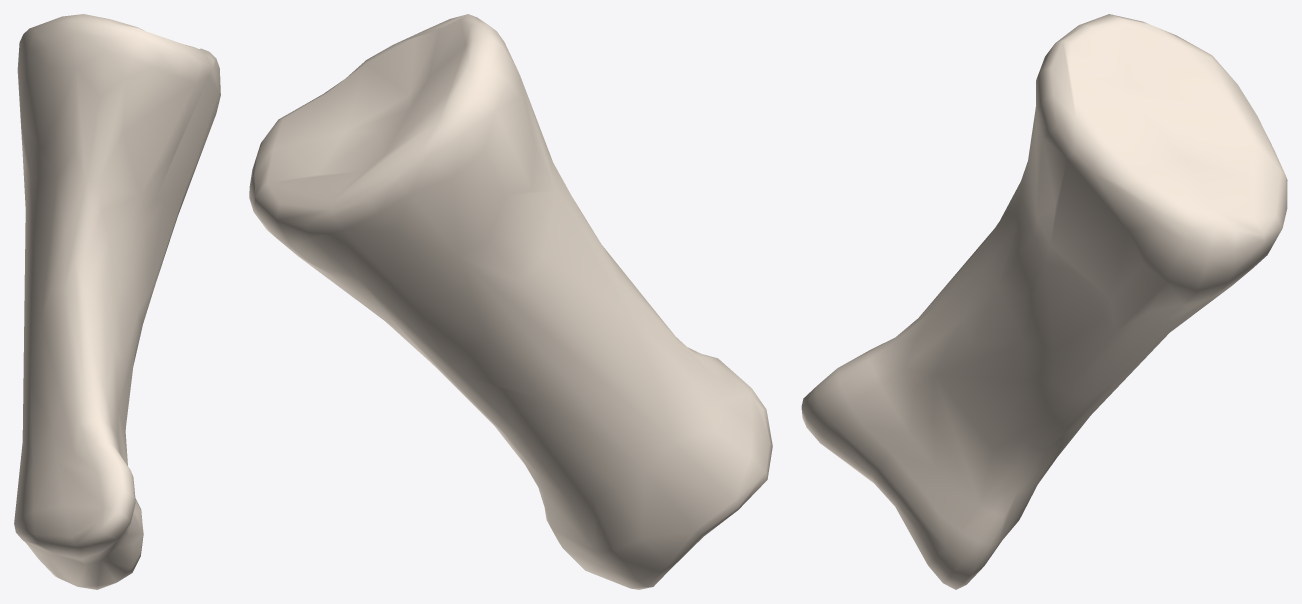
Rendered from right_digit_1_proximal.glb.
3 renders of one model, left to right at view 1: azimuth 30°, elevation 25°; view 2: azimuth 150°, elevation 25°; view 3: azimuth 270°, elevation 25°, orthographic. The views are drawn at different scales.
Visible parts, largest first — view 1: Proximal phalanx of 1st finger.r; view 2: Proximal phalanx of 1st finger.r; view 3: Proximal phalanx of 1st finger.r.
Part boxes in pixels (box(x1,y1,x2,y2)): Proximal phalanx of 1st finger.r: box(14, 14, 220, 589); Proximal phalanx of 1st finger.r: box(249, 14, 772, 589); Proximal phalanx of 1st finger.r: box(801, 14, 1287, 589).
Size of the model in its own units: 0.0119 by 0.0186 by 0.0139.
